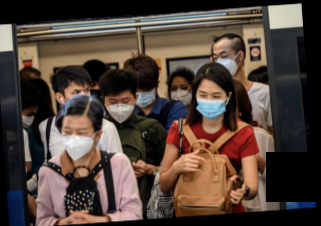with_mask: (58, 121, 94, 164), (195, 87, 226, 121), (105, 95, 135, 126), (210, 47, 238, 77), (168, 81, 193, 107), (133, 87, 156, 108), (21, 109, 36, 130)
